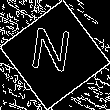N_S: (32, 27, 78, 83)
